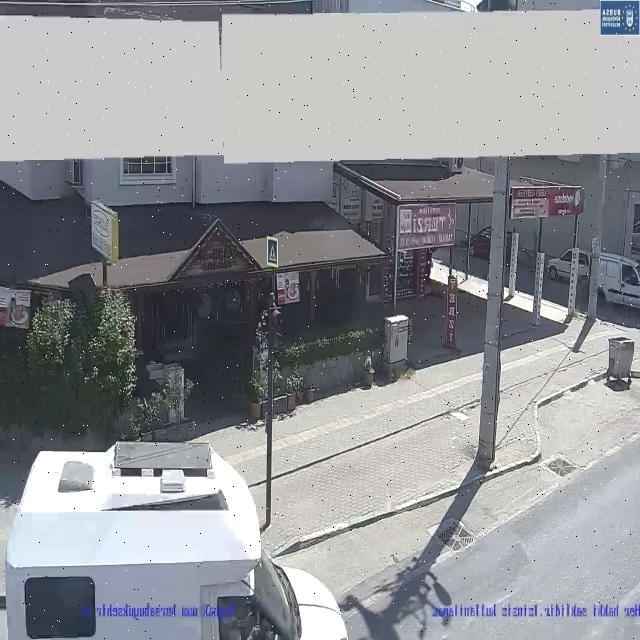Car: (546, 248, 592, 286)
Van: (2, 439, 352, 640), (594, 252, 640, 310)
